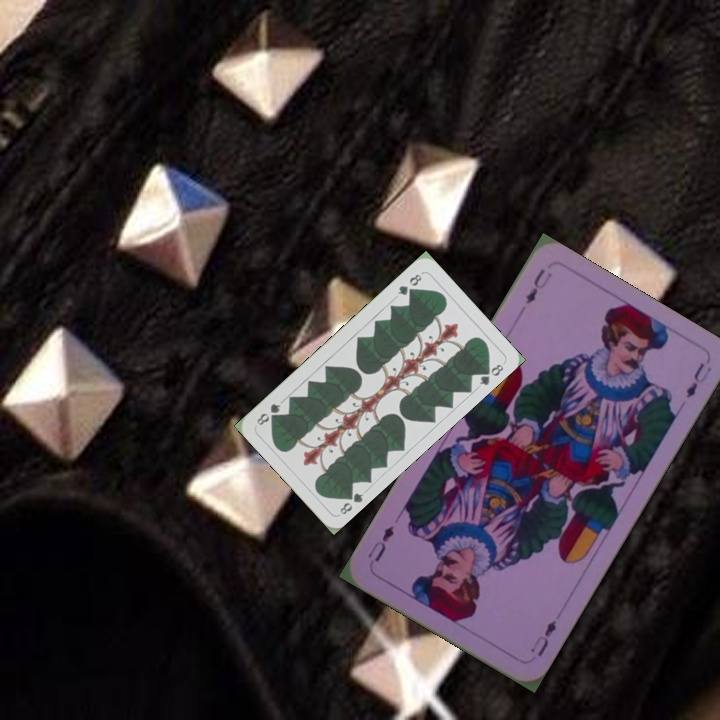EU: (521, 264, 555, 307), (526, 616, 559, 659)
G8: (336, 486, 366, 517), (393, 270, 425, 298)
